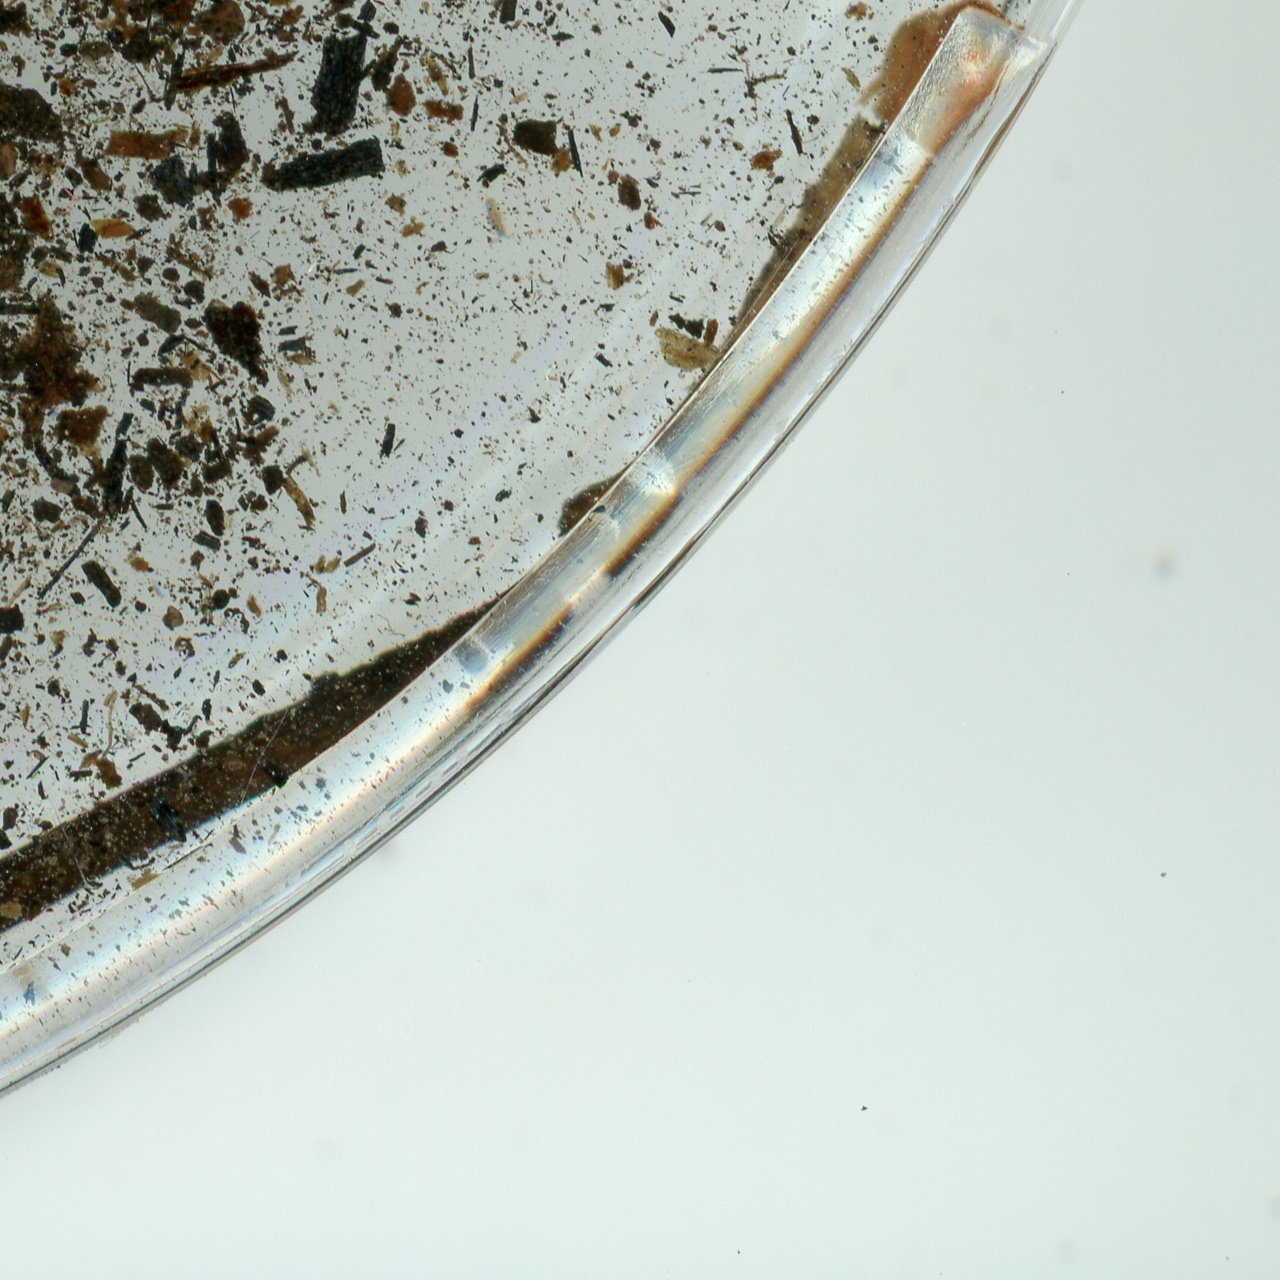arthropod: (481, 192, 516, 245)
